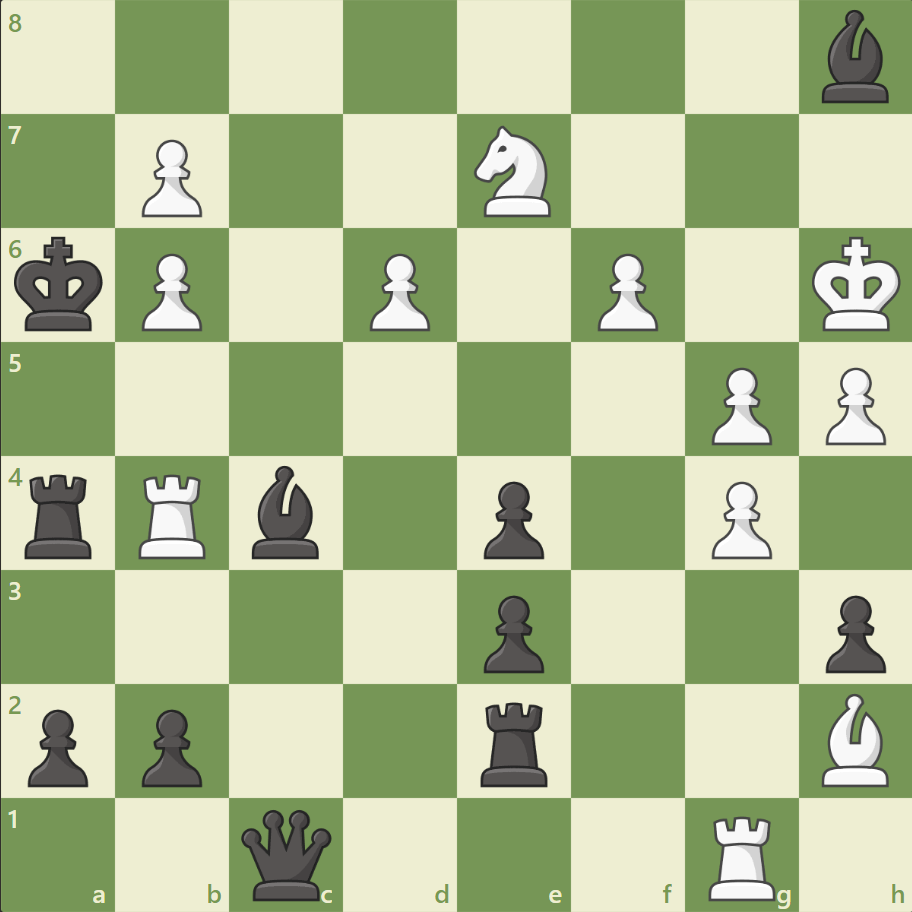B: (812, 687, 896, 790)
K: (806, 231, 906, 339)
N: (465, 121, 562, 223)
P: (133, 132, 208, 223), (133, 246, 208, 337), (701, 359, 776, 450), (701, 473, 776, 564), (361, 246, 435, 337), (588, 246, 662, 337), (815, 359, 889, 450)
R: (700, 806, 783, 904), (133, 466, 215, 563)
b: (812, 6, 896, 109), (244, 460, 328, 563)
k: (11, 231, 111, 339)
p: (474, 473, 549, 564), (474, 586, 549, 677), (20, 700, 95, 791), (133, 700, 208, 791), (815, 586, 889, 677)
q: (237, 804, 336, 903)
r: (19, 466, 102, 563), (473, 693, 556, 790)
